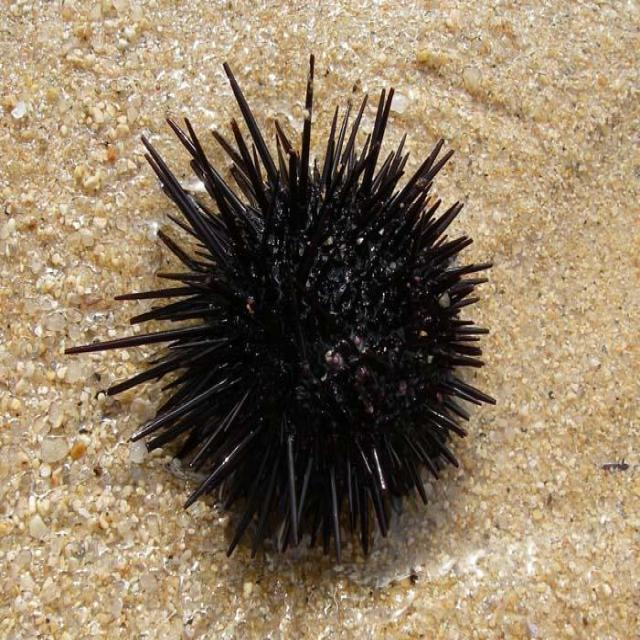Urchin: (117, 84, 487, 546)
